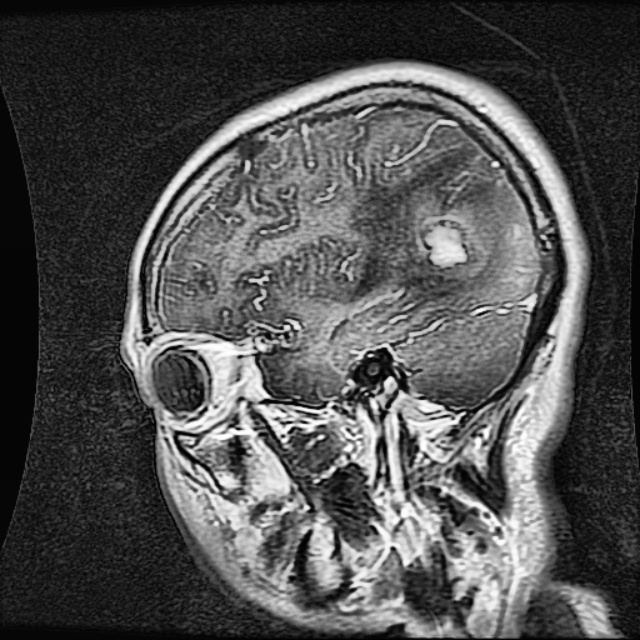Meningioma: (424, 227, 468, 263)
